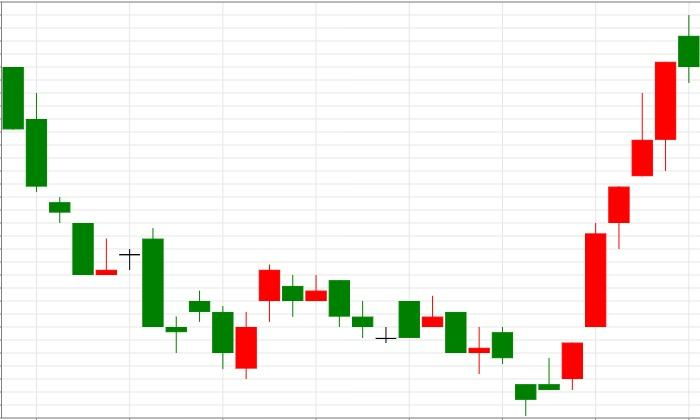shooting_star_fall: (562, 92, 653, 389)
